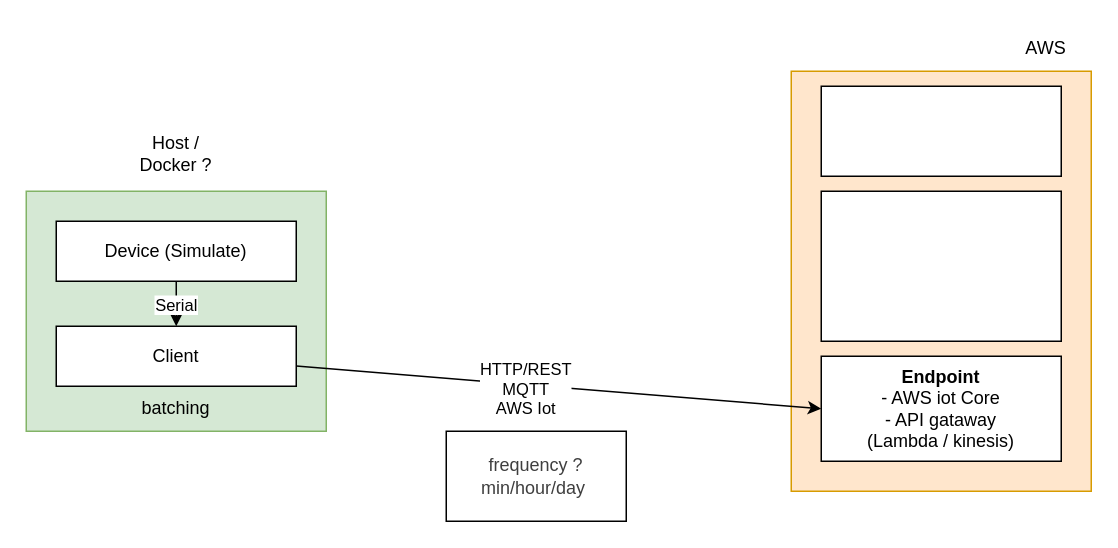
The diagram is 1118 pixels wide and 548 high, and some of its shapes have lost their labels. The centre of each missing label's shape, as x and y in pixels:
"Dashboard - Grafana -Amazone QuickSight -custom web dashboard" goes at point (940, 130).
"STORAGE - Aws Timestream - InfluxDB - TimescaleDB - Custom" goes at point (940, 265).
